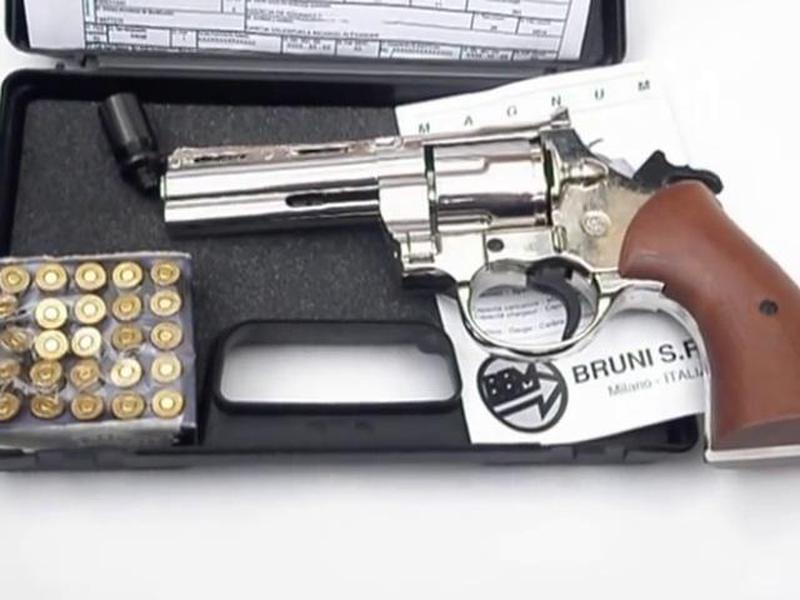Revolver: (150, 91, 661, 349)
